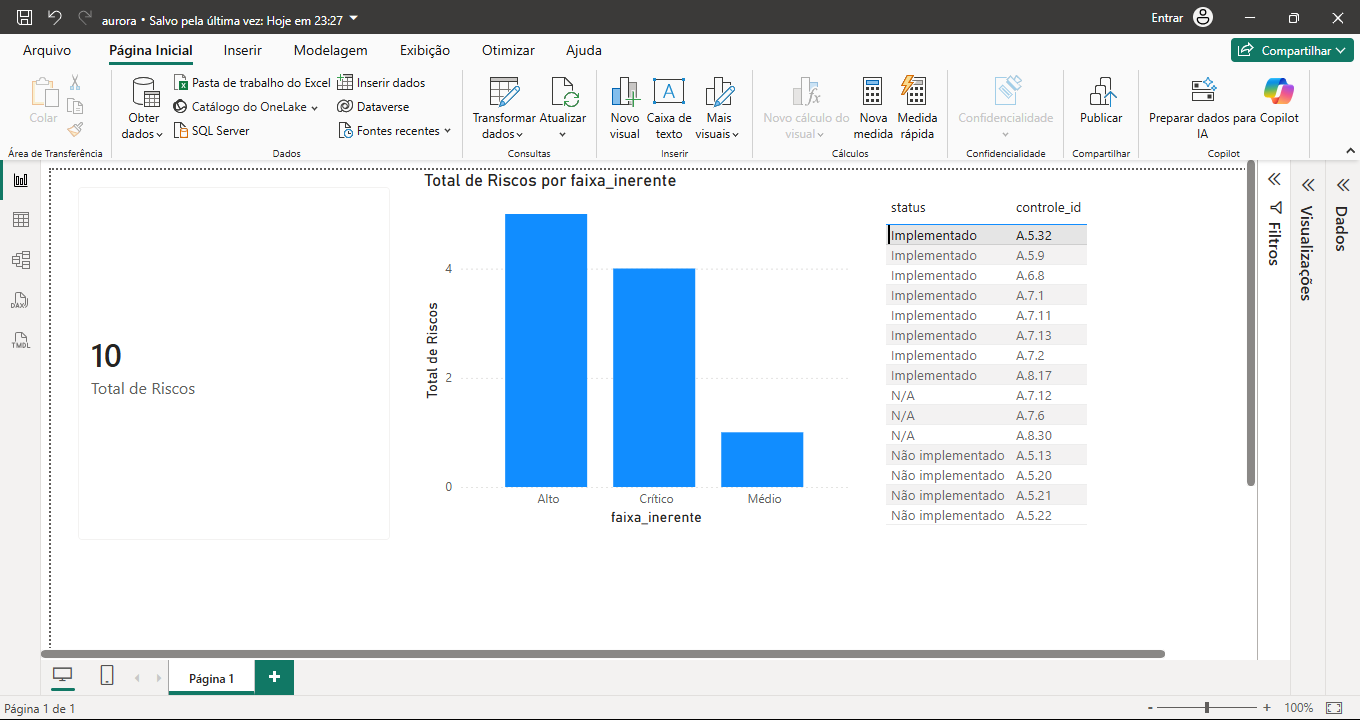

The page's visual inventory and layout, read from the dashboard file:
{"tool":"powerbi","page":{"name":"Página 1","canvas":[1280,720],"ordinal":0},"visuals":[{"type":"cardVisual","fields":{"Data":["ativos.Total de Riscos"]},"box":[10,0,346,387],"z":0},{"type":"columnChart","fields":{"Category":["riscos.faixa_inerente"],"Y":["ativos.Total de Riscos"]},"box":[368,0,437,360],"z":1000},{"type":"tableEx","fields":{"Values":["controles_soa.status","controles_soa.controle_id"]},"box":[829,22,451,338],"z":2000}]}

Visuals, with their boxes on the page's 1280x720 design canvas (x1, y1, x2, y2). These are canvas units, not pixel positions in the 1360x720 screenshot, which may show the page scaled, cropped or inside an application window:
cardVisual - ativos.Total de Riscos: x1=10, y1=0, x2=356, y2=387
columnChart - riscos.faixa_inerente x ativos.Total de Riscos: x1=368, y1=0, x2=805, y2=360
tableEx - controles_soa.status x controles_soa.controle_id: x1=829, y1=22, x2=1280, y2=360
